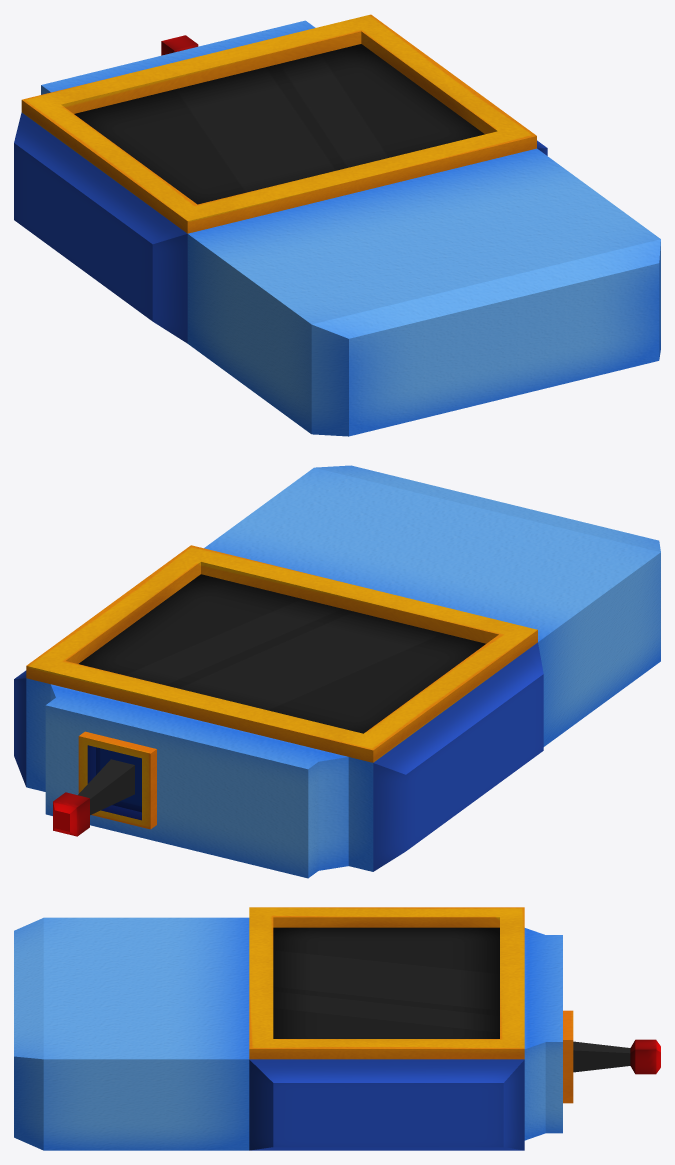
Rendered from GuardSearch.FBX.
The picture shows the model from 3 angles, top to bottom: view 1: azimuth 30°, elevation 25°; view 2: azimuth 150°, elevation 25°; view 3: azimuth 270°, elevation 25°; orthographic projection. The views are drawn at different scales.
Parts seen in each view (by area): view 1: Box104; view 2: Box104; view 3: Box104.
Boxes of the visible parts, x1,y1,x2,y2 form: Box104: (14,14,660,436); Box104: (14,465,660,878); Box104: (14,907,660,1150).
Bounding box in the file's own units: 8.62 × 14.73 × 2.55.
1 material, 1 textured.
